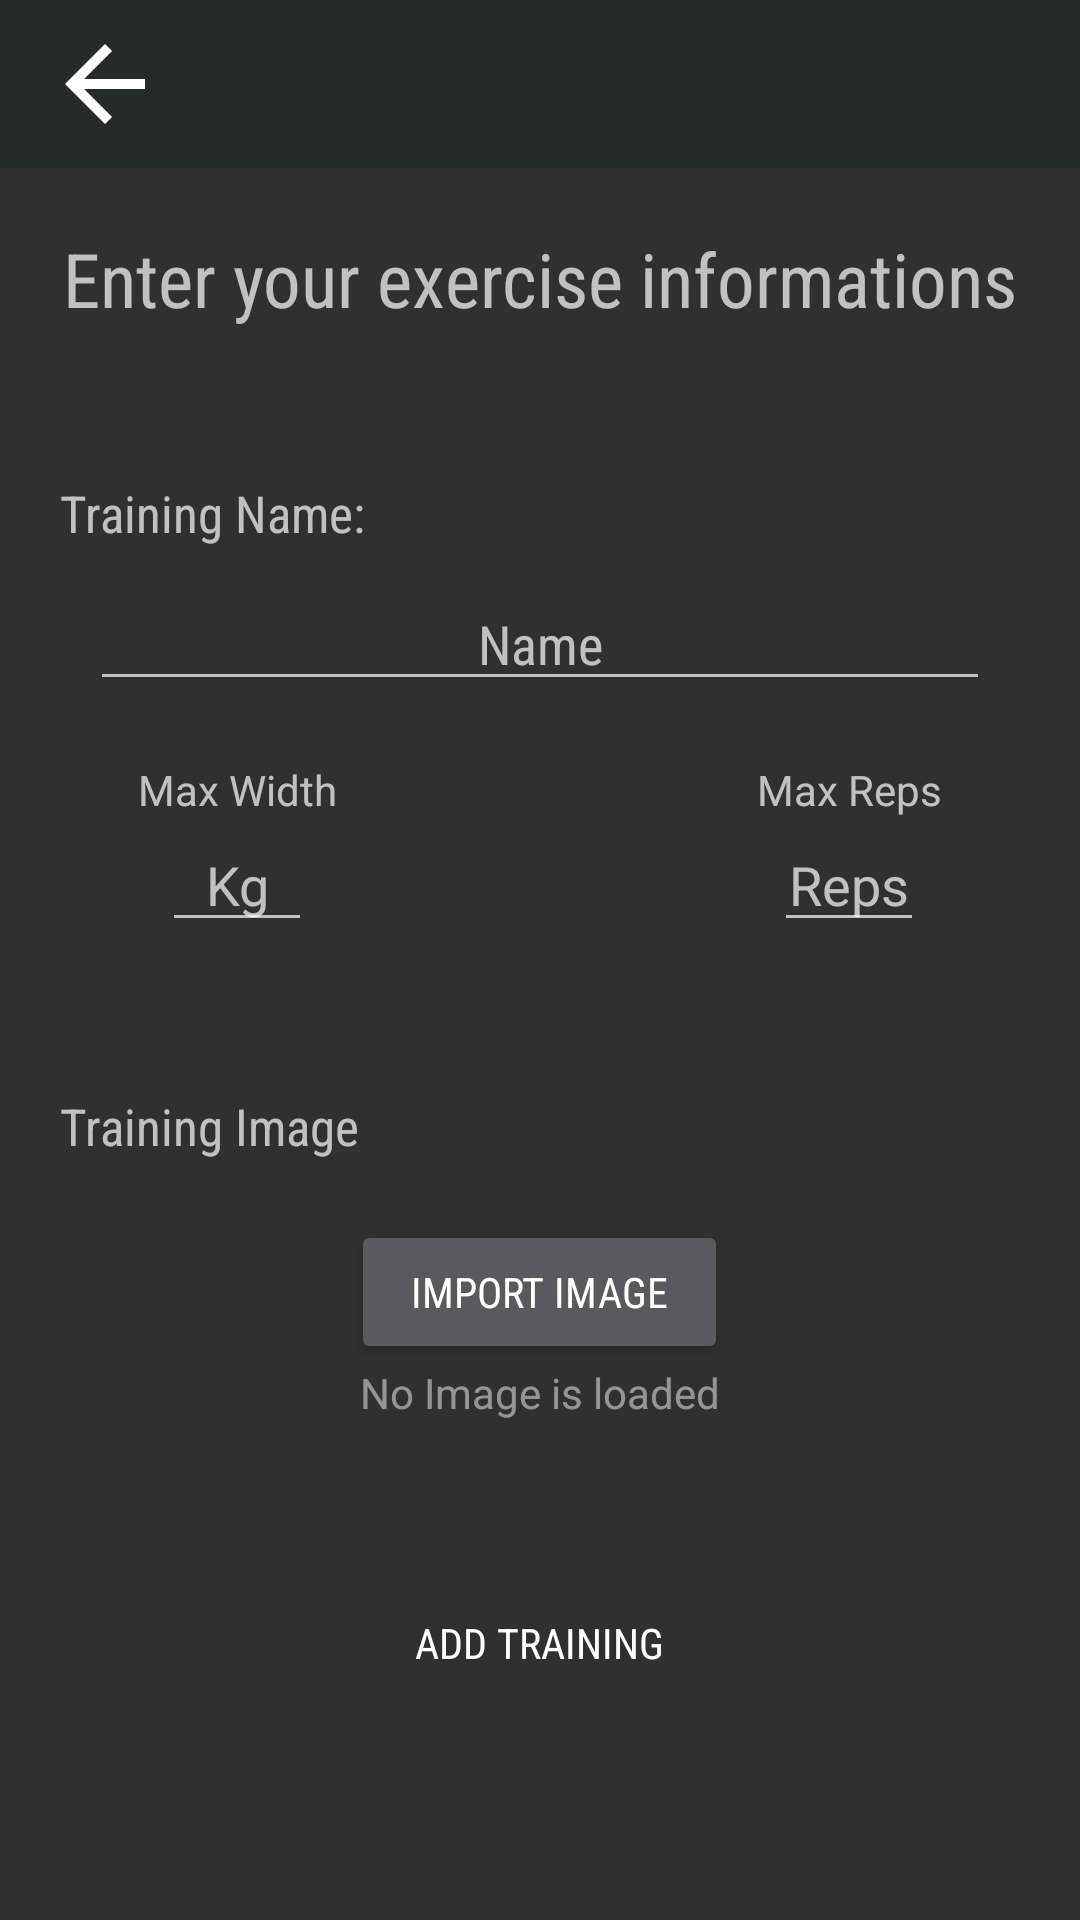

Where icons sit on this 1080 x 1920 app screen, as (x1, y1, x2, y2):
back: (65, 44, 145, 124)
